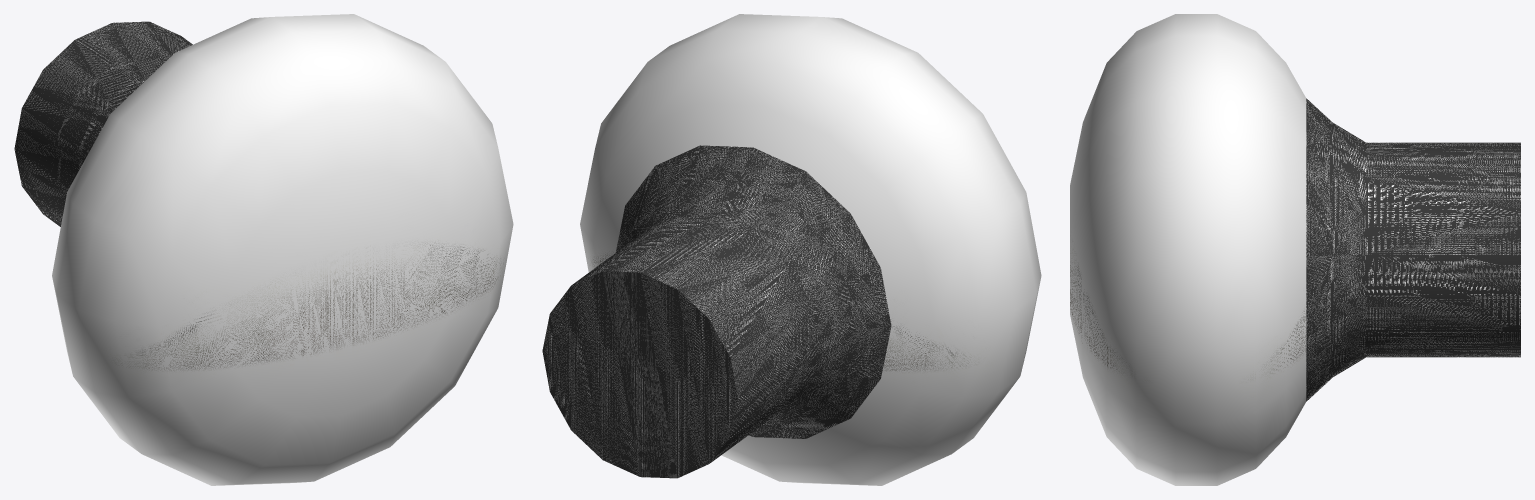
Rendered from original-45.obj.
The picture shows the model from 3 angles, left to right: view 1: azimuth 30°, elevation 25°; view 2: azimuth 150°, elevation 25°; view 3: azimuth 270°, elevation 25°; orthographic projection. The views are drawn at different scales.
Visible parts, largest first — view 1: _7034_DF1/_7034_DF/mesh32/mesh32-geometry#mesh32-geometry; view 2: _7034_DF1/_7034_DF/mesh32/mesh32-geometry#mesh32-geometry; view 3: _7034_DF1/_7034_DF/mesh32/mesh32-geometry#mesh32-geometry.
Part boxes in pixels (<box>): _7034_DF1/_7034_DF/mesh32/mesh32-geometry#mesh32-geometry: <box>14,14,513,485</box>; _7034_DF1/_7034_DF/mesh32/mesh32-geometry#mesh32-geometry: <box>542,14,1041,485</box>; _7034_DF1/_7034_DF/mesh32/mesh32-geometry#mesh32-geometry: <box>1070,14,1520,485</box>.
Bounding box in the file's own units: 0.0634 × 0.0634 × 0.0605.
